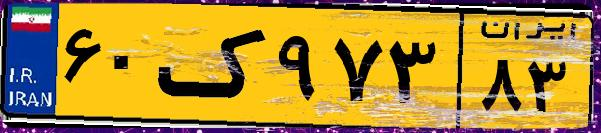0: (110, 28, 158, 98)
3: (385, 28, 445, 110), (525, 38, 570, 115)
6: (57, 26, 110, 100)
7: (330, 28, 385, 110)
8: (475, 38, 525, 113)
9: (270, 28, 330, 110)
ک: (158, 12, 270, 120)
